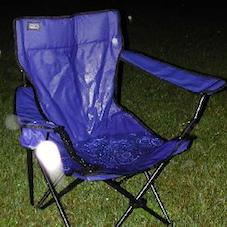chair: (6, 9, 215, 223)
